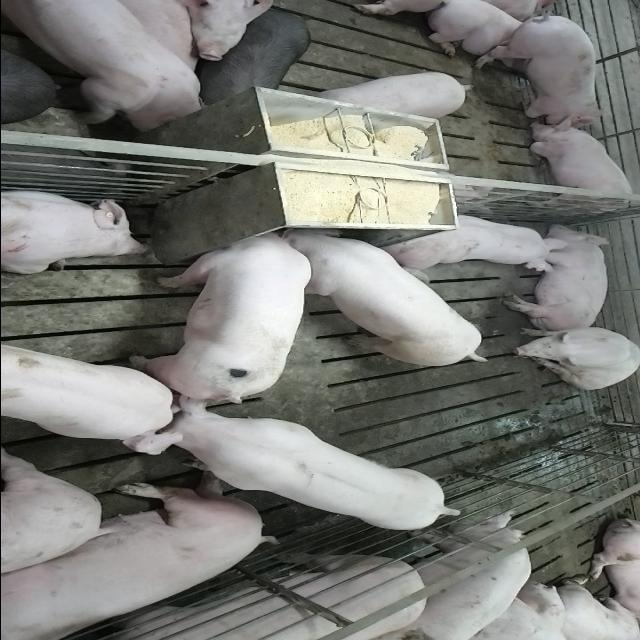Feeding: (127, 222, 311, 396), (280, 229, 496, 371)
Lateral_lying: (0, 482, 274, 636), (500, 222, 612, 332)
Sitting: (516, 124, 640, 218), (503, 325, 638, 390)
Standing: (120, 394, 462, 532), (40, 551, 434, 640), (0, 1, 204, 130), (0, 338, 176, 450), (385, 516, 535, 640), (472, 15, 612, 131), (196, 10, 312, 104), (314, 68, 476, 118)
Sternal_lying: (0, 187, 152, 274), (382, 210, 568, 274), (428, 1, 558, 70)
